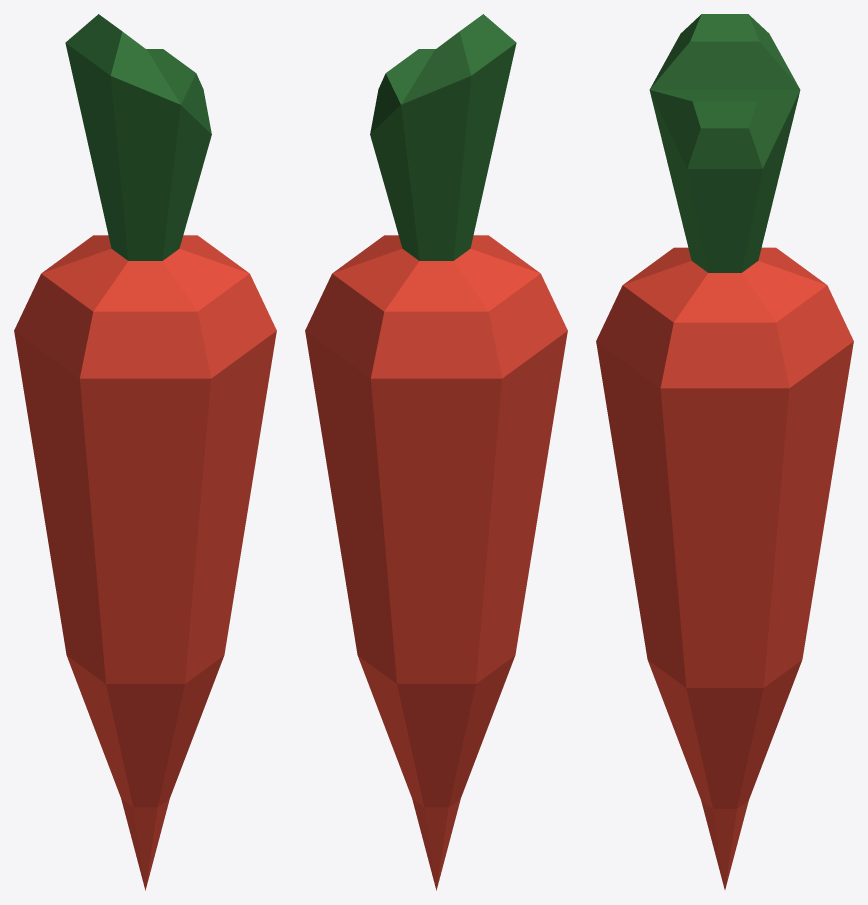
Rendered from food_carrot.fbx.
3 views of the same model, side by side, from view 1: azimuth 30°, elevation 25°; view 2: azimuth 150°, elevation 25°; view 3: azimuth 270°, elevation 25° (orthographic).
Parts seen in each view (by area): view 1: food_carrot; view 2: food_carrot; view 3: food_carrot.
Part boxes in pixels (left/top/right/bottom): food_carrot: left=14, top=14, right=276, bottom=890; food_carrot: left=305, top=14, right=567, bottom=890; food_carrot: left=596, top=14, right=853, bottom=889.
Bounding box in the file's own units: 47.06 × 200 × 54.34.
